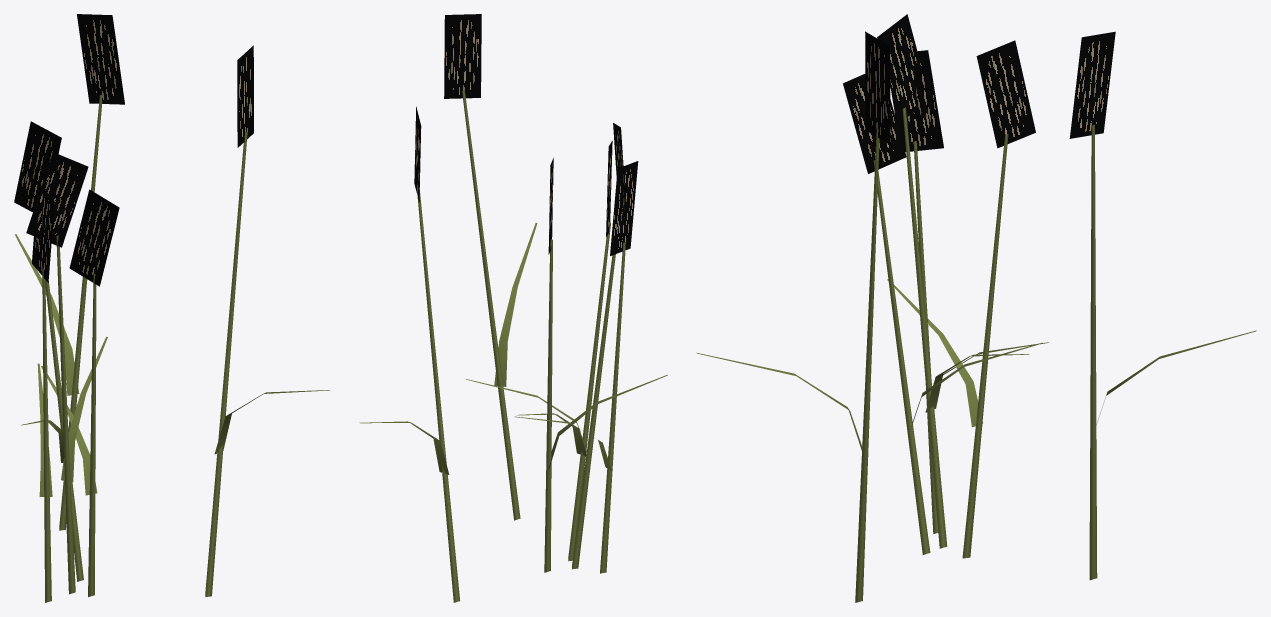
The model's file is caral_cana_brava_lod1.glb.
3 renders of one model, left to right at view 1: azimuth 30°, elevation 25°; view 2: azimuth 150°, elevation 25°; view 3: azimuth 270°, elevation 25°, orthographic. The views are drawn at different scales.
Visible parts, largest first — view 1: GEO-Kit_cana_brava_LOD1; view 2: GEO-Kit_cana_brava_LOD1; view 3: GEO-Kit_cana_brava_LOD1.
Part boxes in pixels (x1,y1,x2,y2): GEO-Kit_cana_brava_LOD1: (14,14,329,602); GEO-Kit_cana_brava_LOD1: (359,14,667,602); GEO-Kit_cana_brava_LOD1: (696,14,1256,602).
Bounding box in the file's own units: 2.09 × 4.47 × 3.86.
2 materials, 1 textured.
